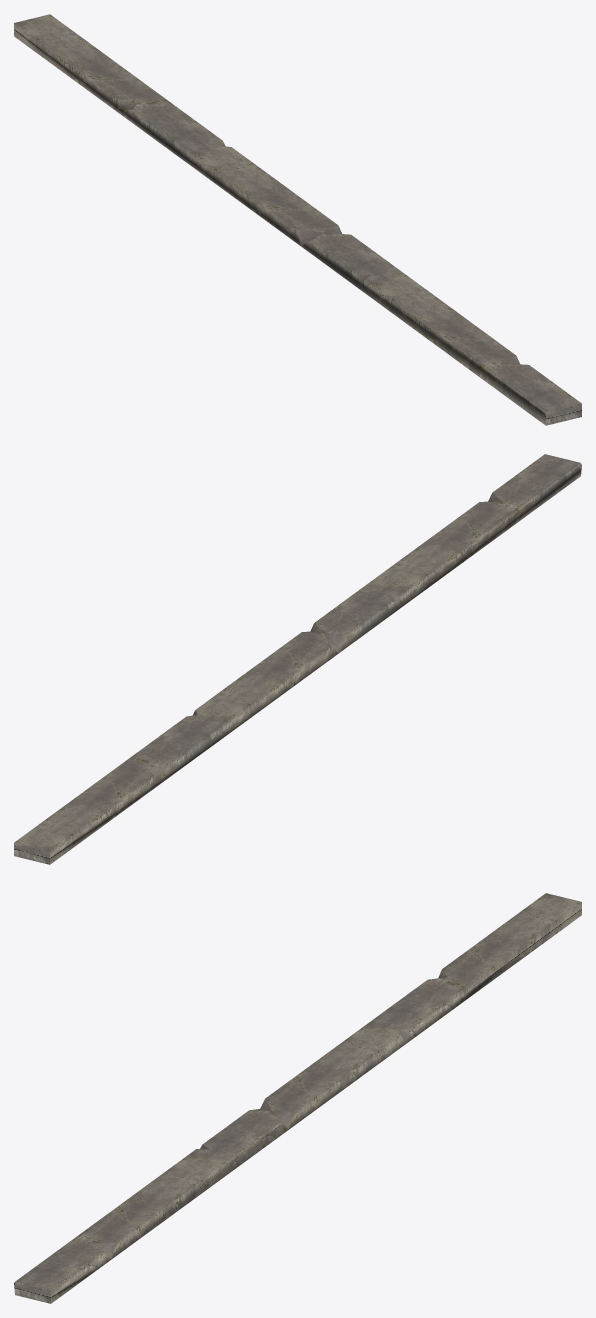
The model's file is kerb_125x900.glb.
3 renders of one model, top to bottom at view 1: azimuth 30°, elevation 25°; view 2: azimuth 150°, elevation 25°; view 3: azimuth 330°, elevation 25°, orthographic.
Parts seen in each view (by area): view 1: kerb_125x900; view 2: kerb_125x900; view 3: kerb_125x900.
Boxes of the visible parts, x1,y1,x2,y2 form: kerb_125x900: [14, 14, 581, 425]; kerb_125x900: [14, 454, 581, 864]; kerb_125x900: [14, 893, 581, 1303].
Size of the model in its own units: 0.3764 by 0.1266 by 9.09.
1 material, 1 textured.
